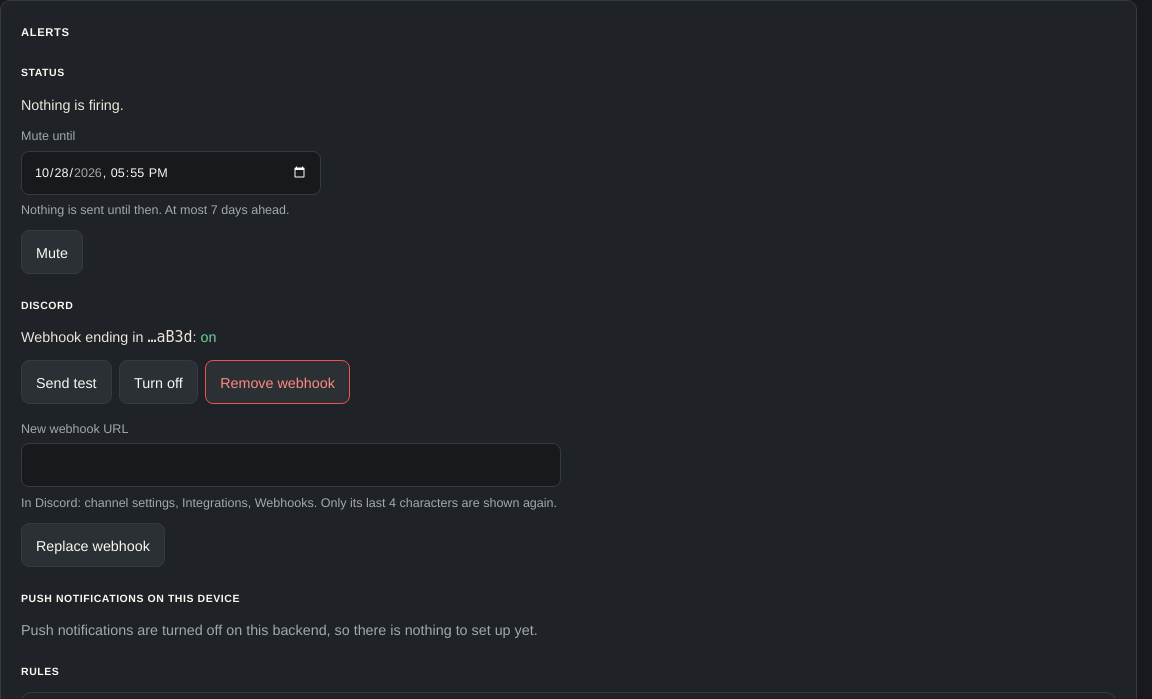
the Discord controls › shows a 403 like any other error: the backend is the real control
Click the button "Send test" at {"x": 66, "y": 382}, box [21,360,112,404]
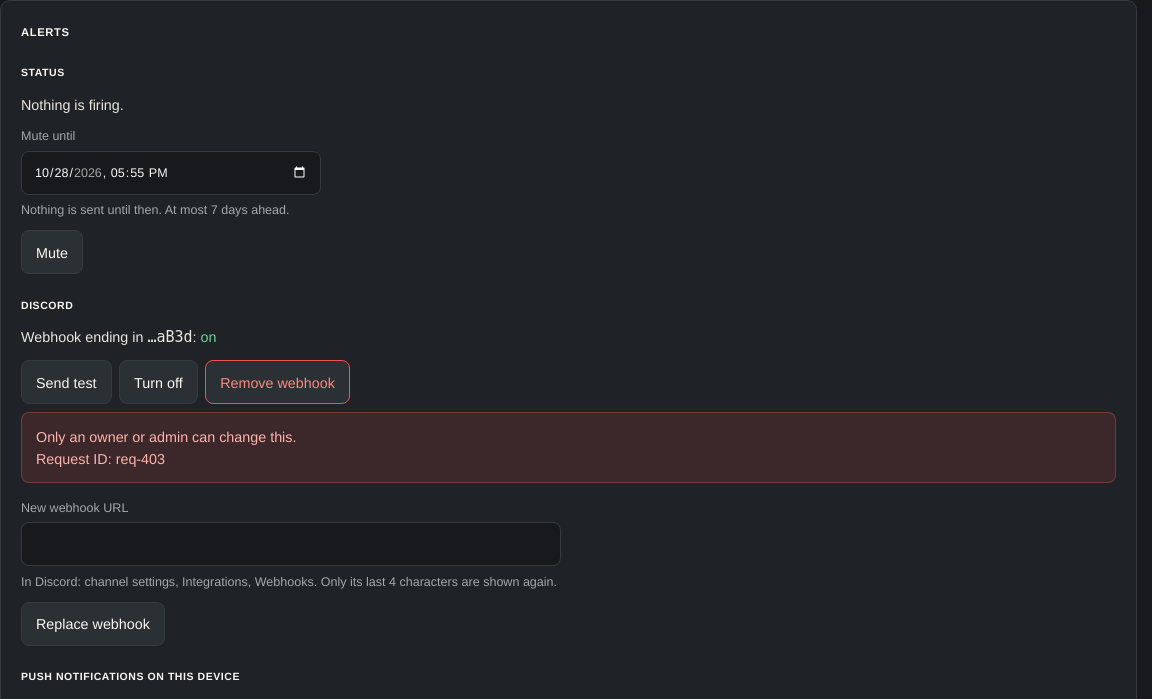
expect the text "Only an owner or admin can change this." is shown: met, box [36,426,296,444]
